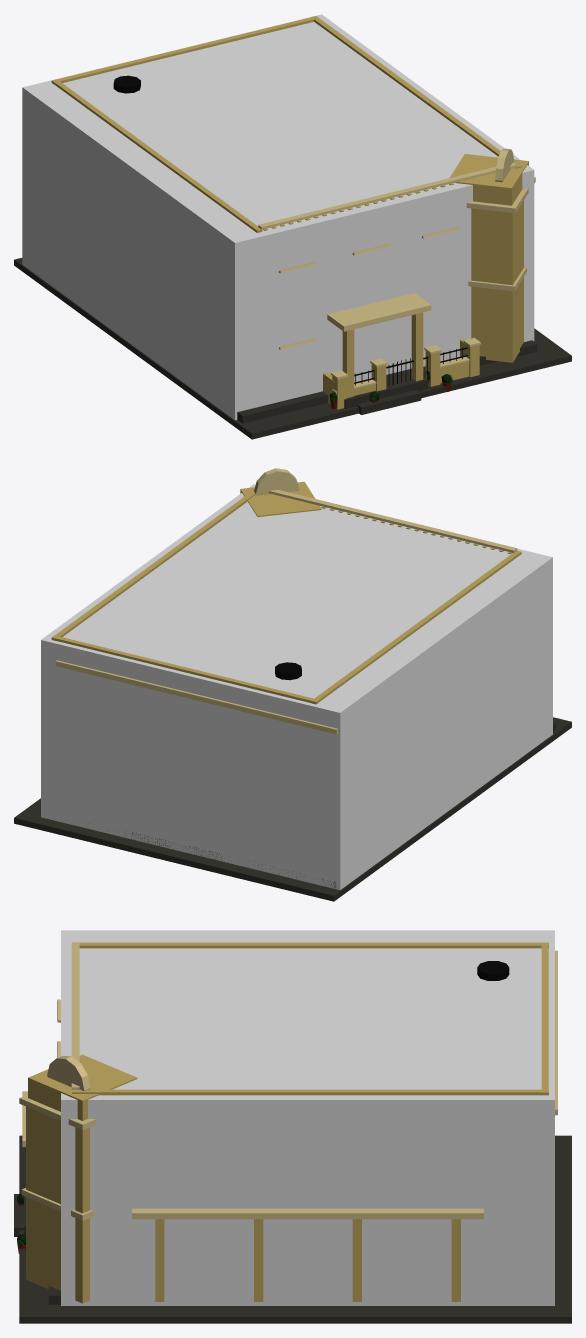
Rendered from CHN_014_corner_trad.glb.
3 views of the same model, one above another, from view 1: azimuth 30°, elevation 25°; view 2: azimuth 150°, elevation 25°; view 3: azimuth 270°, elevation 25° (orthographic). The views are drawn at different scales.
Parts seen in each view (by area): view 1: COL_Main, LOD0; view 2: COL_Main, LOD0; view 3: COL_Main, LOD0.
Part boxes in pixels (box(x1,y1,x2,y2)): COL_Main: box(22, 14, 534, 420); LOD0: box(14, 16, 571, 439); COL_Main: box(41, 484, 552, 889); LOD0: box(14, 468, 571, 901); COL_Main: box(61, 930, 554, 1305); LOD0: box(14, 942, 571, 1323).
Size of what is drawn, in the model's own units: 13.9 by 8.57 by 18.07.
